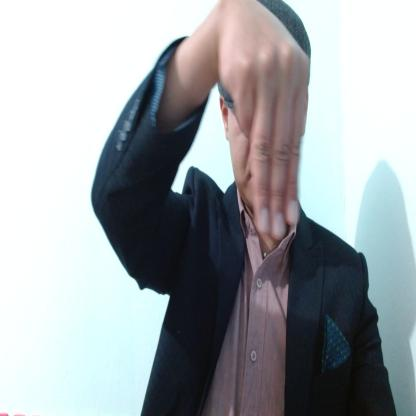M: (218, 1, 310, 239)
